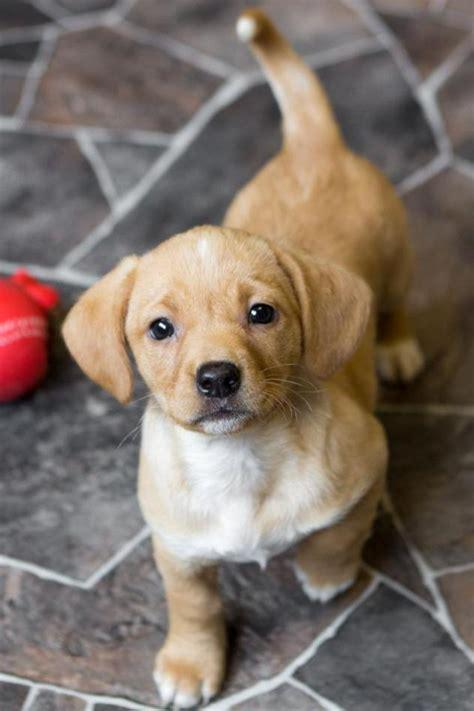dog: (62, 13, 419, 704)
